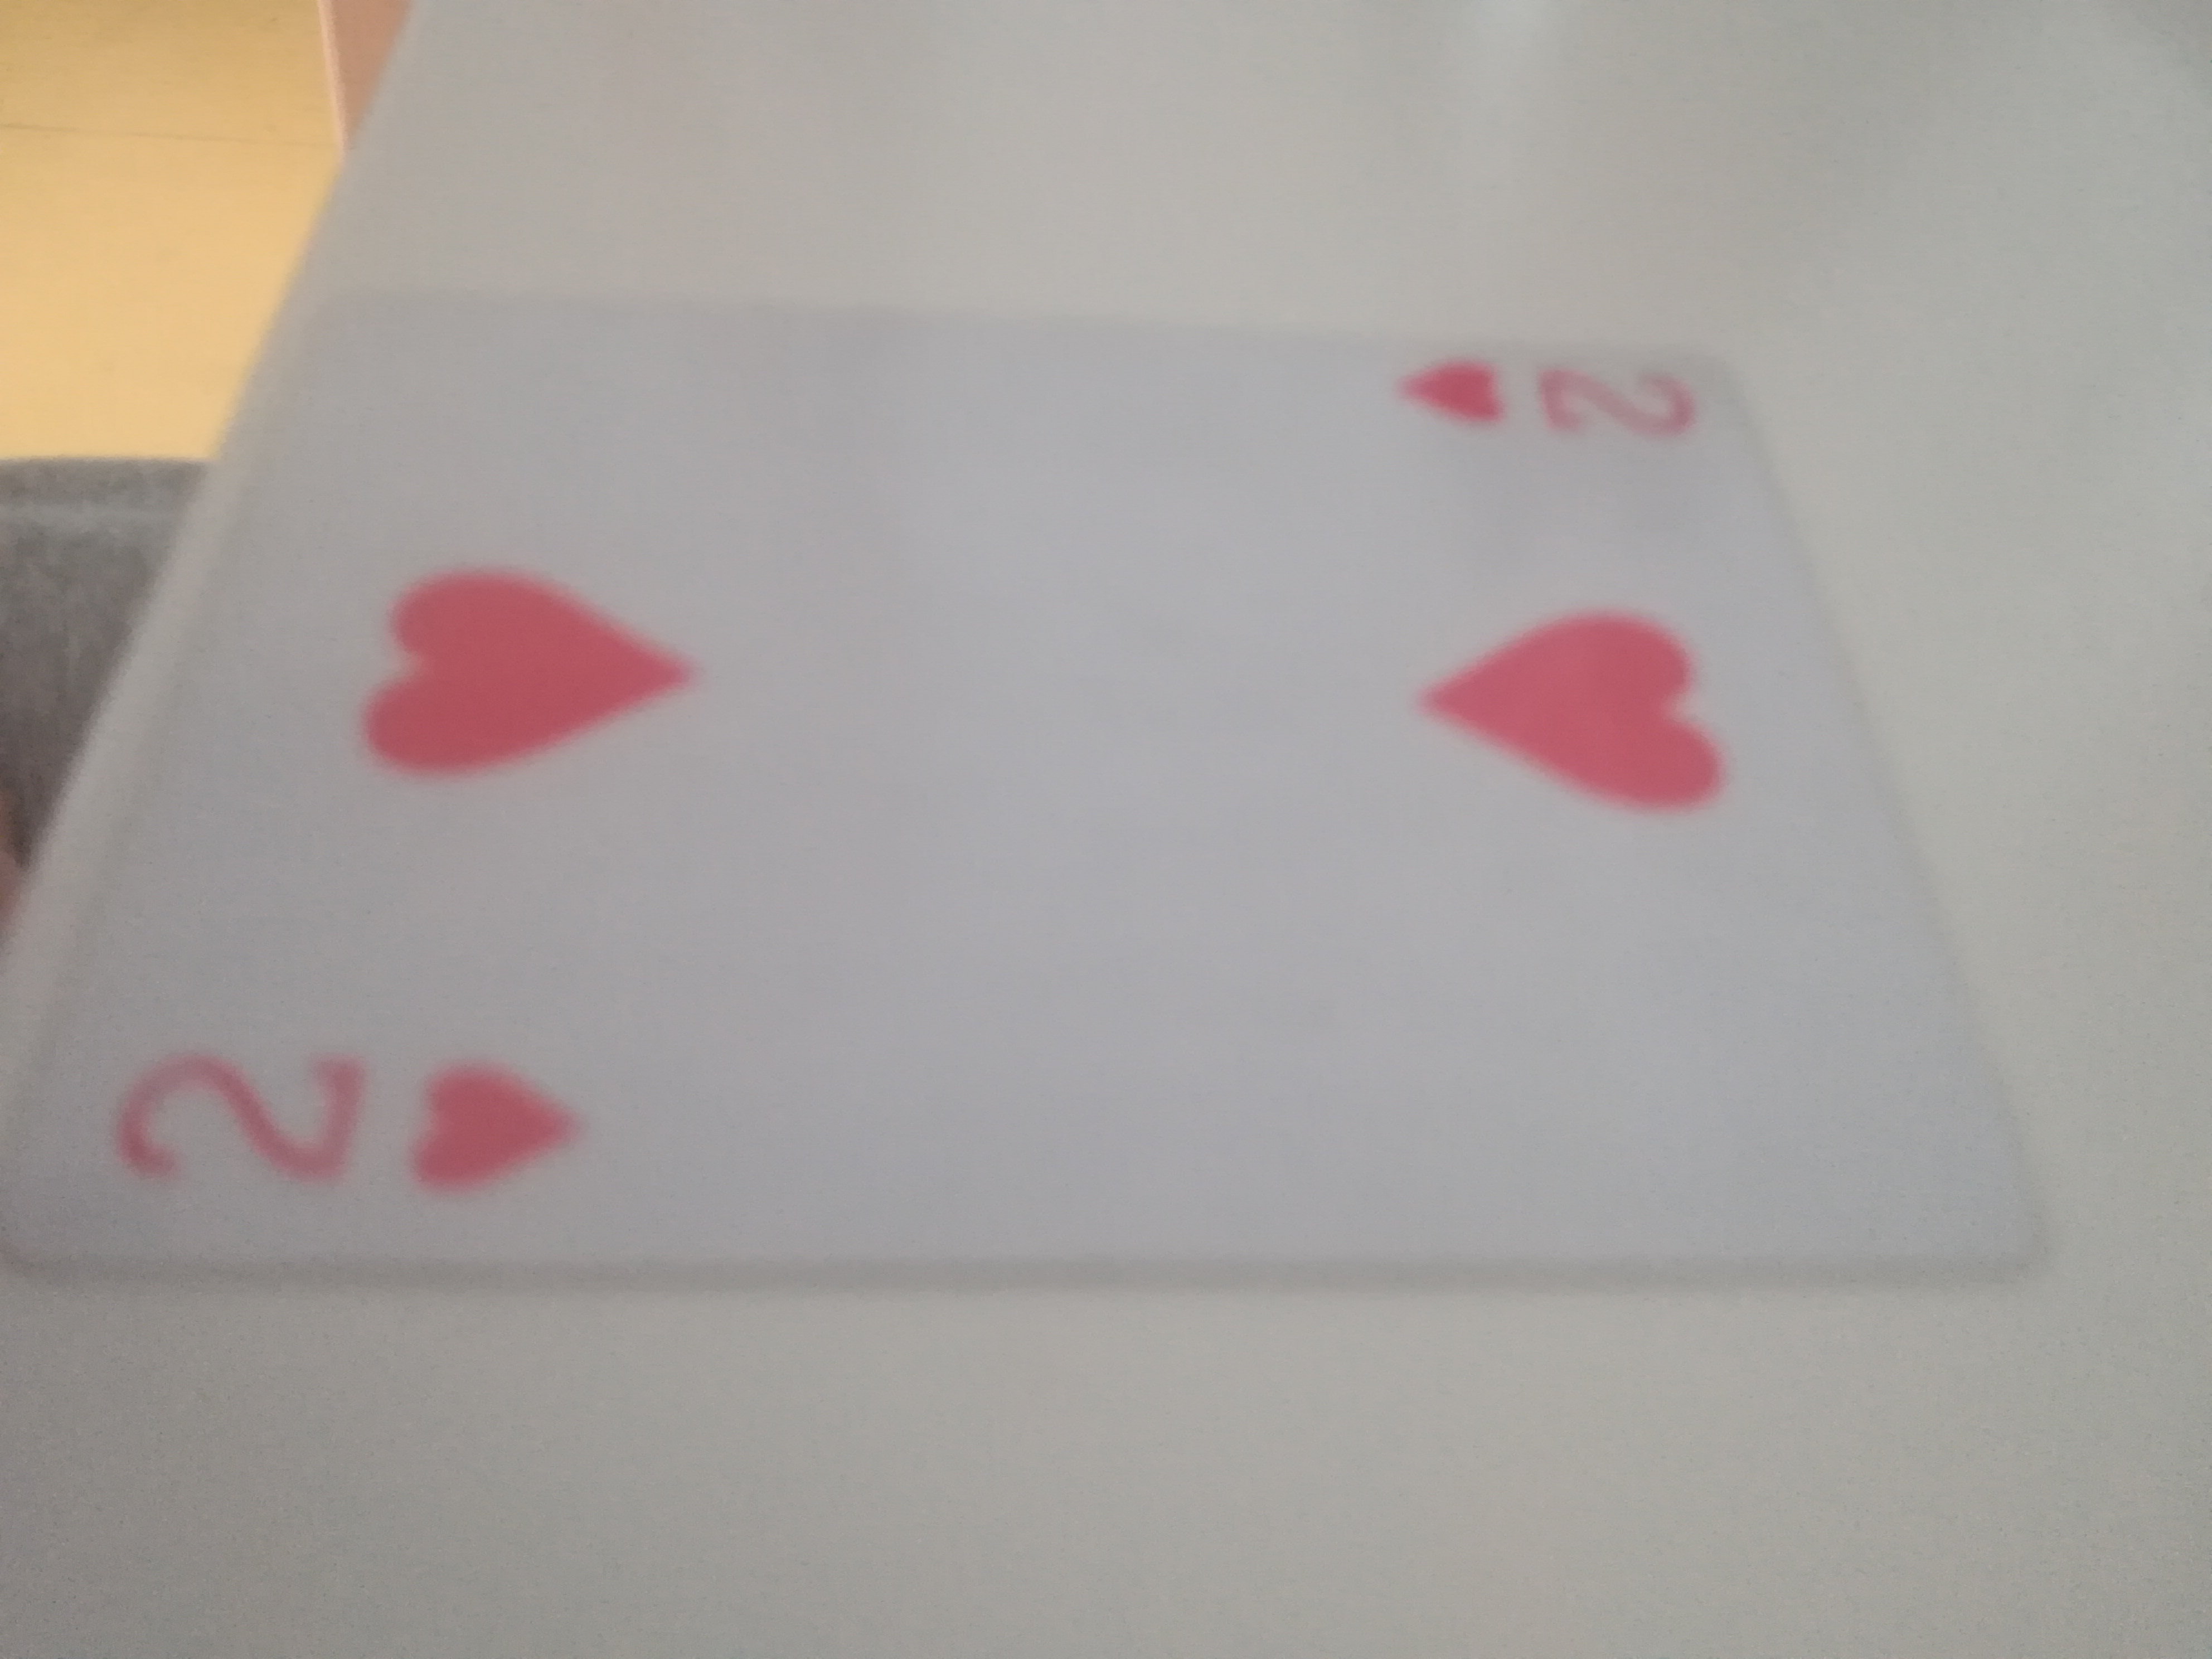2H: (68, 300, 2047, 1321)
